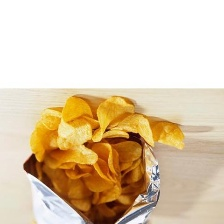snack: (15, 127, 164, 224)
